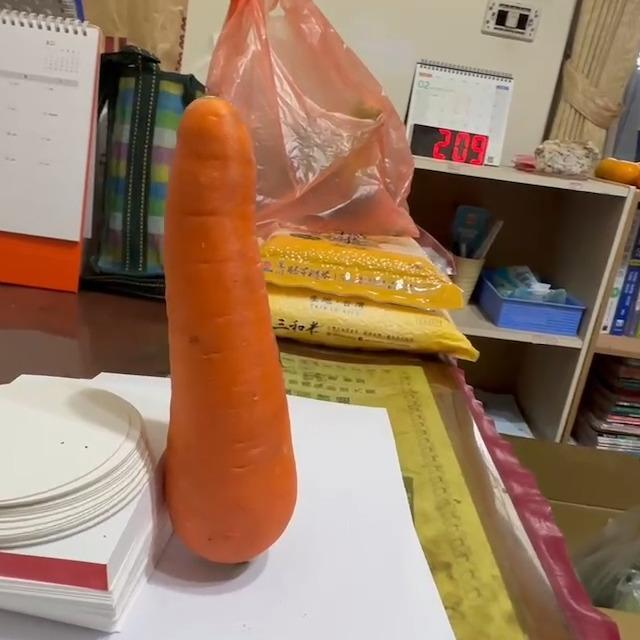carrot: (162, 92, 301, 568)
